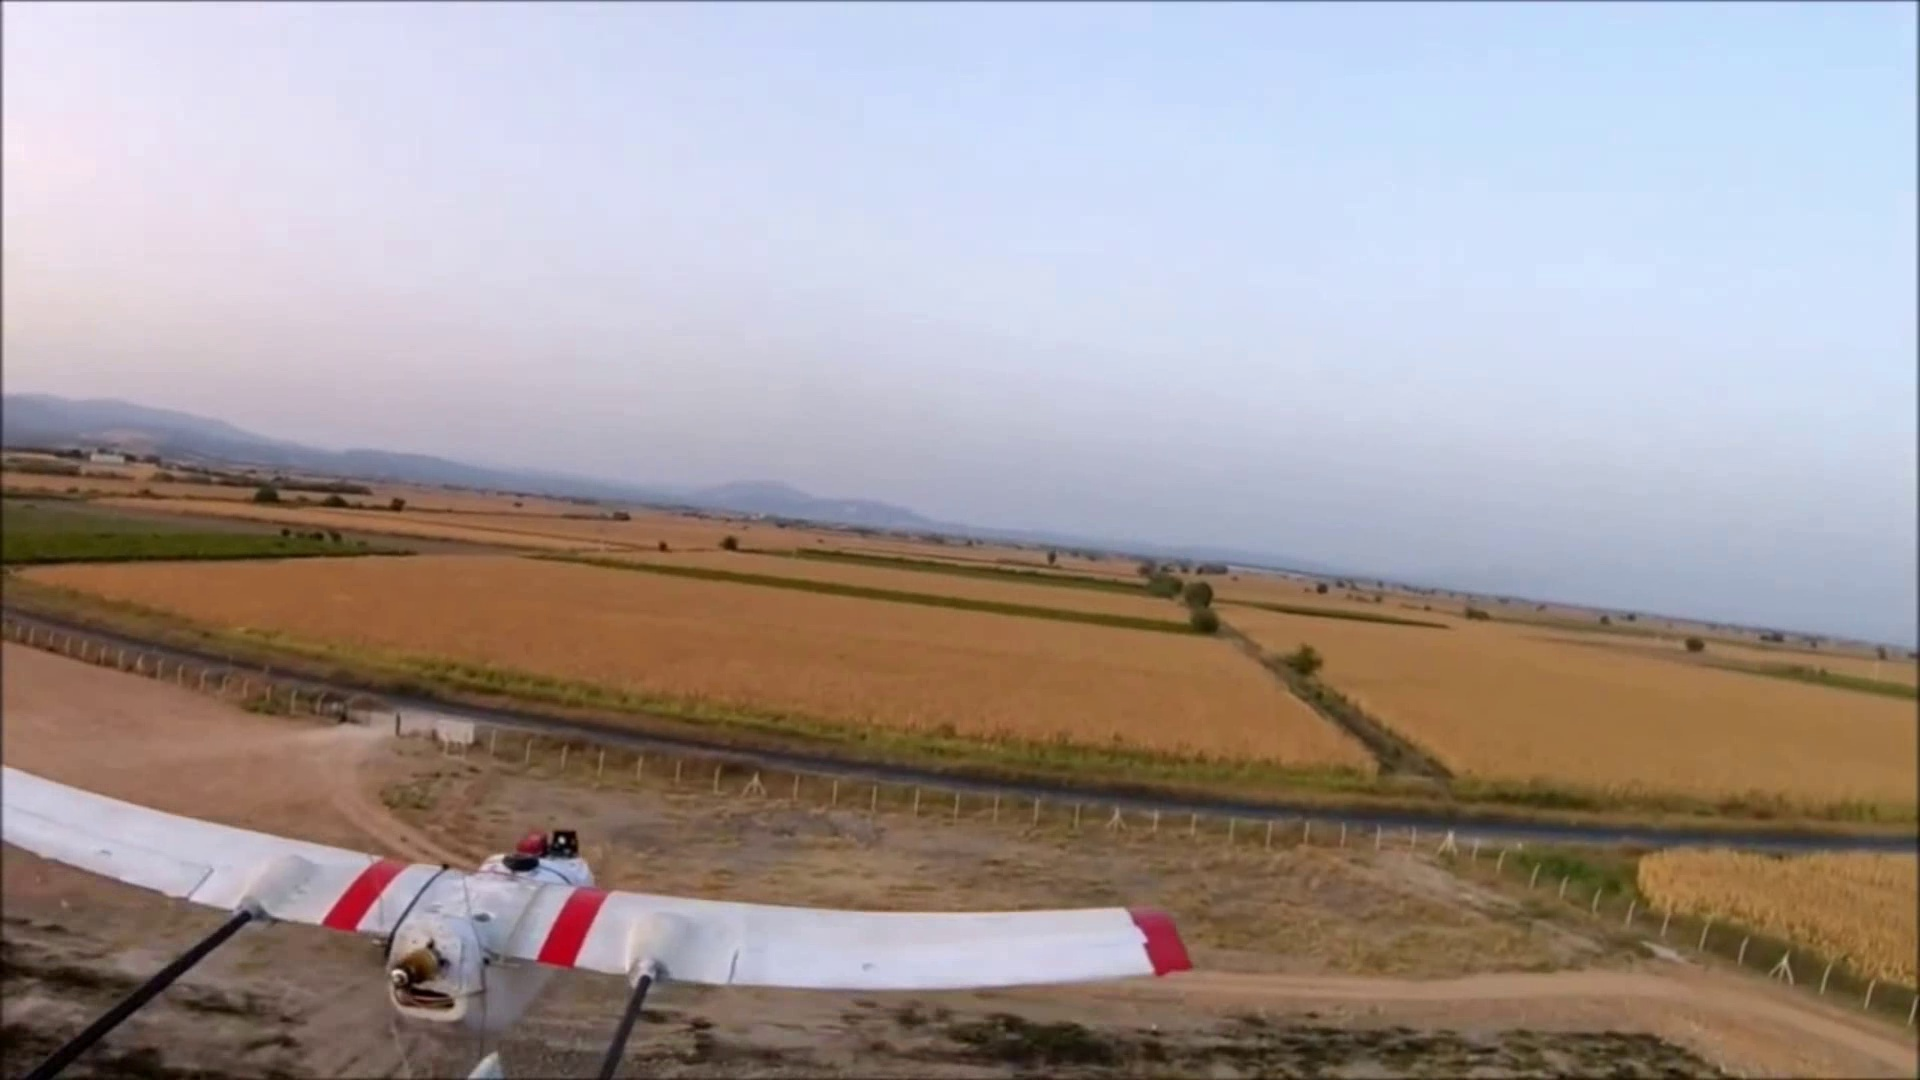airplane: (1, 758, 1197, 1025)
